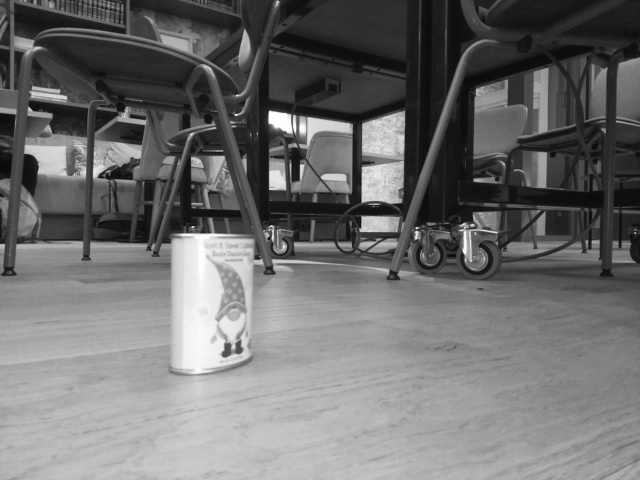gnome: (198, 253, 253, 357)
